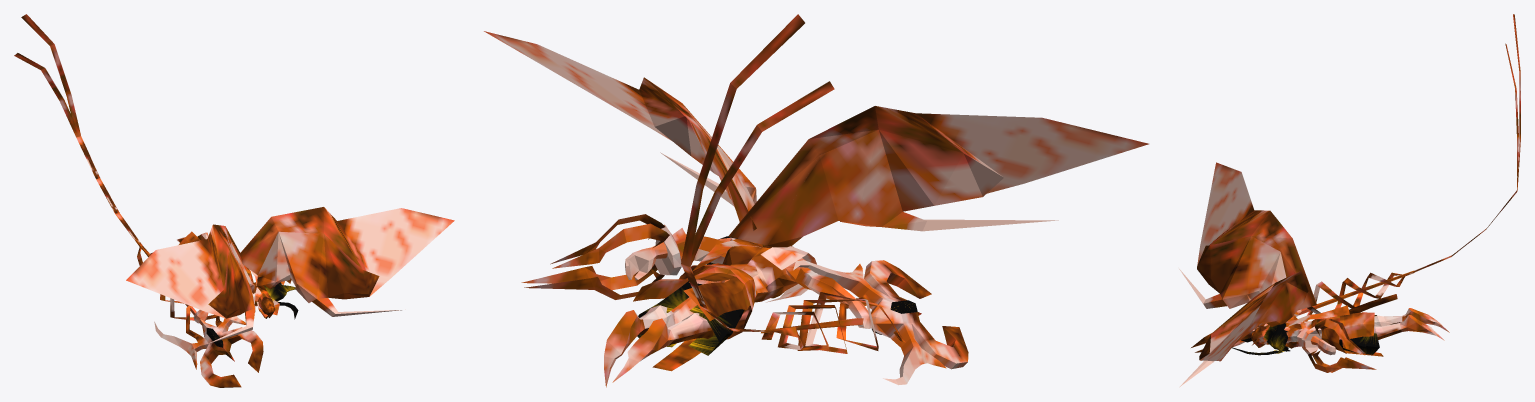
File: boss_aoxilisi.obj
3 views of the same model, side by side, from view 1: azimuth 30°, elevation 25°; view 2: azimuth 150°, elevation 25°; view 3: azimuth 270°, elevation 25° (orthographic). The views are drawn at different scales.
Visible parts, largest first — view 1: Boss_aoxilisi, fazhang, Object03; view 2: Boss_aoxilisi, fazhang, Object02; view 3: Boss_aoxilisi, fazhang, Object03, Object01.
Part boxes in pixels (box(x1,y1,x2,y2)): Boss_aoxilisi: box(126, 207, 454, 343); fazhang: box(14, 14, 263, 387); Object03: box(264, 282, 298, 319); Boss_aoxilisi: box(484, 31, 1148, 387); fazhang: box(681, 14, 968, 385); Object02: box(688, 305, 744, 355); Boss_aoxilisi: box(1179, 162, 1449, 387); fazhang: box(1191, 14, 1520, 352); Object03: box(1232, 323, 1290, 354); Object01: box(1339, 333, 1379, 354).
Bounding box in the file's own units: 281 × 232 × 234.
Materials: 3 (3 with a texture image).
